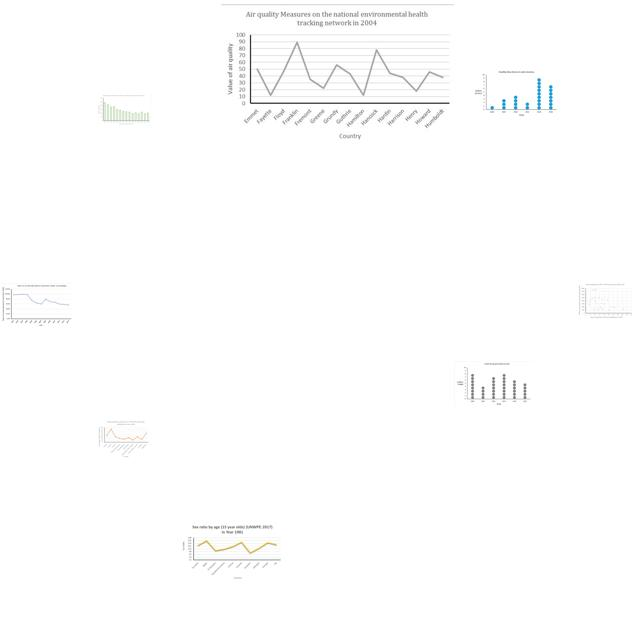Graph: (221, 4, 454, 145), (181, 523, 282, 580), (472, 68, 559, 119), (454, 361, 532, 407), (1, 283, 72, 327), (578, 282, 633, 319), (98, 420, 149, 458), (97, 94, 151, 126)
